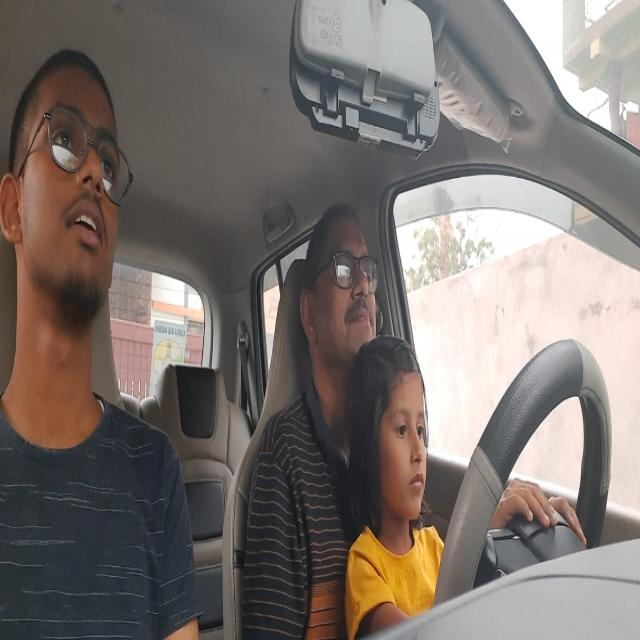child: (364, 363, 434, 528)
person: (8, 56, 124, 310), (302, 217, 374, 352)
